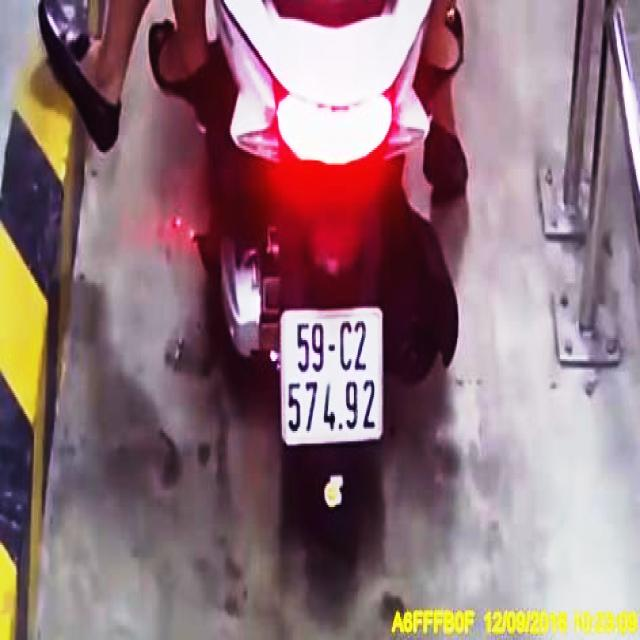license_plate: (281, 311, 385, 439)
